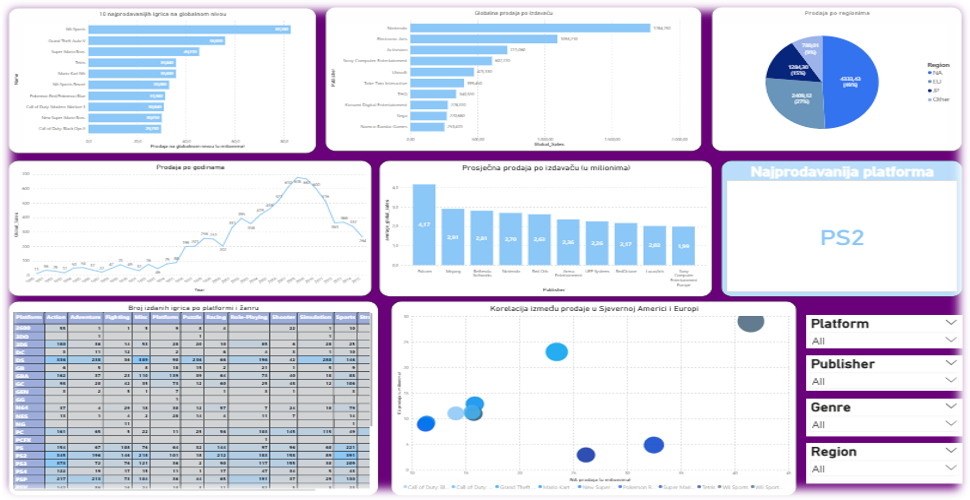

Layout of this report page (visuals, bound fields, positions):
{"tool":"powerbi","page":{"name":"dashboard","canvas":[2700,1699],"ordinal":8},"visuals":[{"type":"clusteredBarChart","title":"10 najprodavanijih igrica na globalnom nivou","fields":{"Category":["vgsales.Name"],"Y":["vgsales.Global_Sales"]},"box":[17.5,25,857.5,492.5],"z":0},{"type":"cardVisual","title":"Najprodavanija platforma","fields":{"Data":["vgsales.Top_Platform"]},"box":[2002,542.1,673.2,460.6],"z":1000},{"type":"slicer","fields":{"Values":["vgsales.Platform"]},"box":[2239.4,1066.5,435.8,113.4],"z":2000},{"type":"slicer","fields":{"Values":["vgsales.Publisher"]},"box":[2239.4,1204.7,435.8,120.5],"z":3000},{"type":"slicer","fields":{"Values":["vgsales.Genre"]},"box":[2239.4,1350,435.8,127.6],"z":4000},{"type":"slicer","fields":{"Values":["vgsales.Region"]},"box":[2239.4,1498.8,435.8,138.2],"z":5000},{"type":"barChart","title":"Globalna prodaja po izdavaču","fields":{"Category":["vgsales.Publisher"],"Y":["vgsales.Global_Sales"]},"box":[900,24.8,1048.8,489],"z":6000},{"type":"pieChart","title":"Prodaja po regionima","fields":{"Category":["vgsales.Region"],"Y":["Sum(vgsales.Sales)"]},"box":[1977.2,24.8,698,489],"z":7000},{"type":"lineChart","title":"Prodaja po godinama","fields":{"Category":["vgsales.Year"],"Y":["vgsales.Global_Sales"]},"box":[17.5,542.5,1012.5,460],"z":8000},{"type":"clusteredColumnChart","title":"Prosječna prodaja po izdavaču (u milionima)","fields":{"Category":["vgsales.Publisher"],"Y":["vgsales.avg_global_sales"]},"box":[1048.8,542.1,928.3,460.6],"z":9000},{"type":"pivotTable","title":"Broj izdanih igrica po platformi i žanru","fields":{"Rows":["vgsales.Platform"],"Columns":["vgsales.Genre"],"Values":["vgsales.BrojIgrica"]},"box":[17.7,1020.5,1031.1,659.1],"z":10000},{"type":"scatterChart","title":"Korelacija između prodaje u Sjevernoj Americi i Europi","fields":{"Series":["vgsales.Name"],"Y":["vgsales.EU_Sales"],"X":["vgsales.NA_Sales"],"Size":["vgsales.Global_Sales"]},"box":[1084.3,1020.5,1130.3,659.1],"z":11000}]}

Visuals, with their boxes on the page's 2700x1699 design canvas (x1, y1, x2, y2). These are canvas units, not pixel positions in the 970x500 screenshot, which may show the page scaled, cropped or inside an application window:
"10 najprodavanijih igrica na globalnom nivou" clusteredBarChart: x1=18 y1=25 x2=875 y2=518
"Najprodavanija platforma" cardVisual: x1=2002 y1=542 x2=2675 y2=1003
slicer - vgsales.Platform: x1=2239 y1=1066 x2=2675 y2=1180
slicer - vgsales.Publisher: x1=2239 y1=1205 x2=2675 y2=1325
slicer - vgsales.Genre: x1=2239 y1=1350 x2=2675 y2=1478
slicer - vgsales.Region: x1=2239 y1=1499 x2=2675 y2=1637
"Globalna prodaja po izdavaču" barChart: x1=900 y1=25 x2=1949 y2=514
"Prodaja po regionima" pieChart: x1=1977 y1=25 x2=2675 y2=514
"Prodaja po godinama" lineChart: x1=18 y1=542 x2=1030 y2=1002
"Prosječna prodaja po izdavaču (u milionima)" clusteredColumnChart: x1=1049 y1=542 x2=1977 y2=1003
"Broj izdanih igrica po platformi i žanru" pivotTable: x1=18 y1=1020 x2=1049 y2=1680
"Korelacija između prodaje u Sjevernoj Americi i Europi" scatterChart: x1=1084 y1=1020 x2=2215 y2=1680
